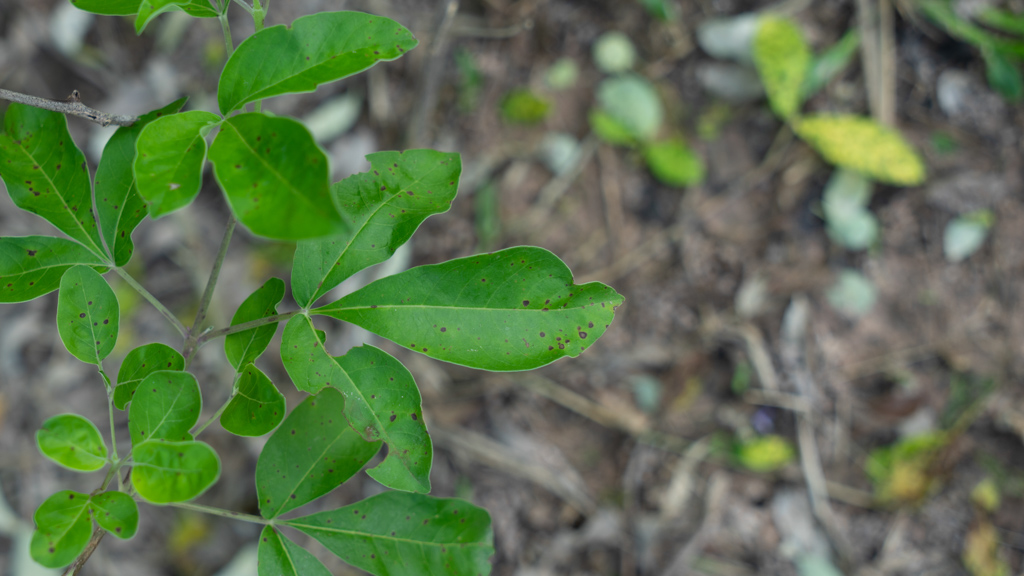Alternaria brassicicola: (414, 283, 622, 360), (321, 502, 476, 568), (364, 137, 442, 265), (356, 365, 447, 472), (15, 125, 91, 232), (268, 417, 350, 505), (223, 122, 293, 223), (102, 167, 143, 260), (67, 284, 118, 351), (125, 356, 182, 400), (7, 246, 49, 297), (241, 380, 277, 426)
